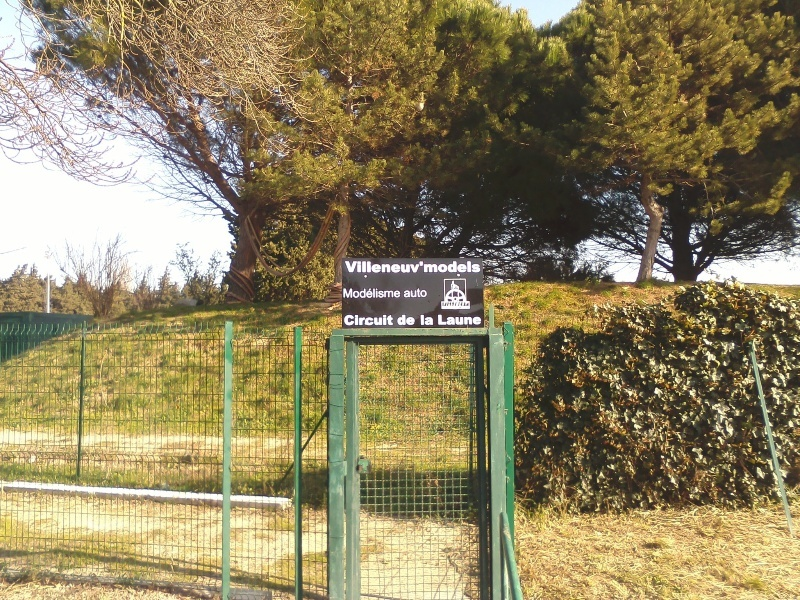text: (465, 260, 481, 274), (353, 260, 368, 274), (369, 260, 384, 274), (385, 260, 400, 274), (401, 260, 416, 274), (417, 260, 432, 274), (433, 260, 448, 274), (449, 260, 464, 274), (401, 313, 416, 327), (353, 288, 368, 299), (369, 288, 384, 299), (385, 288, 400, 299), (353, 315, 368, 326), (369, 315, 384, 326), (449, 315, 464, 326), (465, 315, 480, 326), (404, 288, 416, 299), (421, 314, 432, 326), (417, 288, 428, 299), (344, 260, 352, 274), (438, 315, 448, 326), (343, 288, 352, 299), (343, 315, 352, 326), (385, 315, 394, 326), (397, 313, 400, 327), (433, 314, 434, 326), (401, 288, 402, 299), (481, 315, 482, 326)
